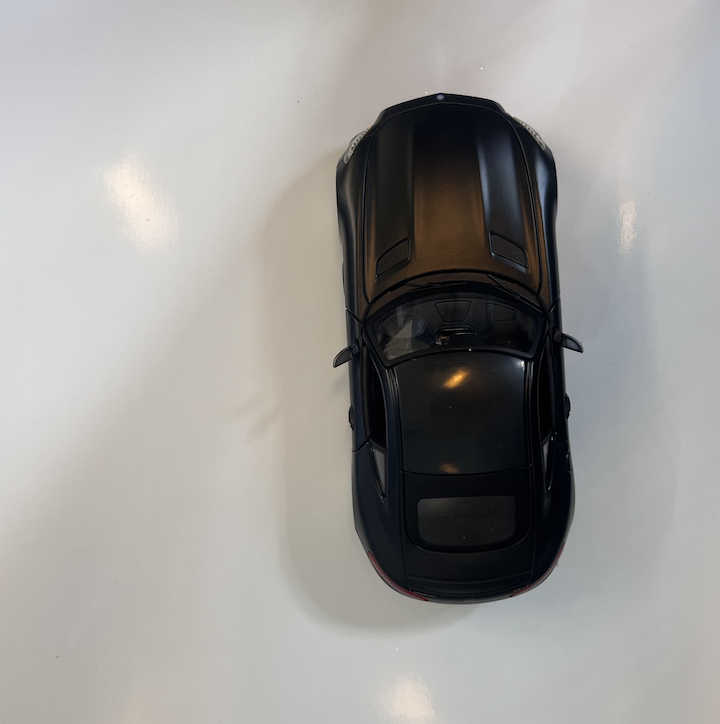car: (331, 93, 584, 605)
